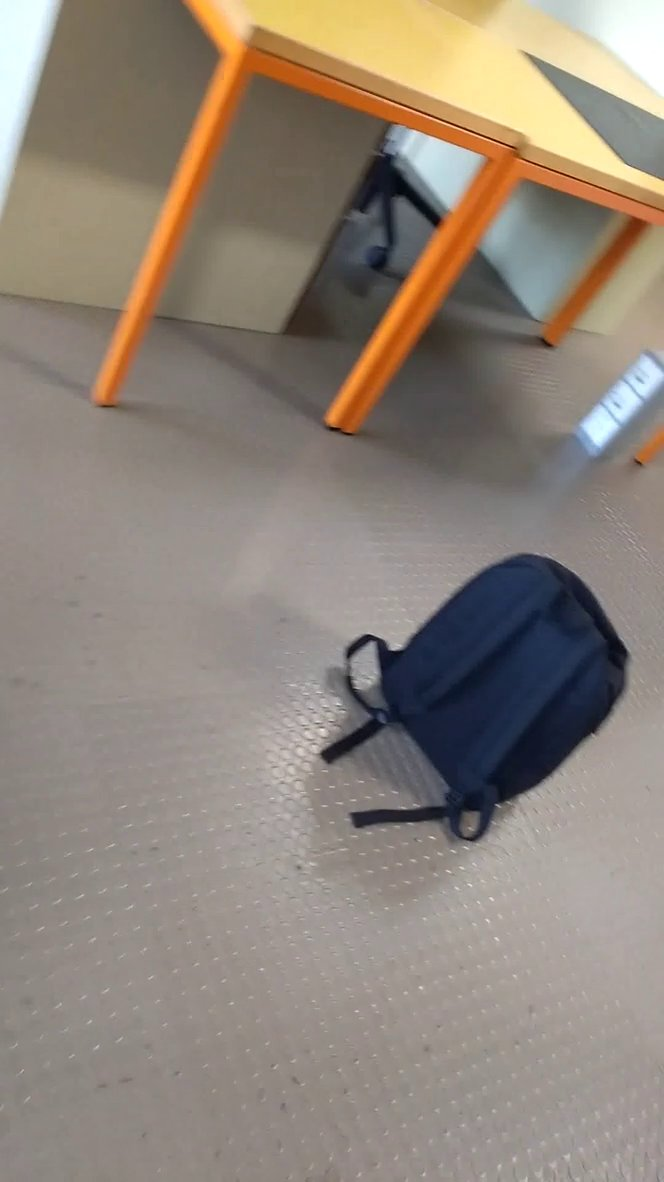bag: (313, 540, 642, 862)
